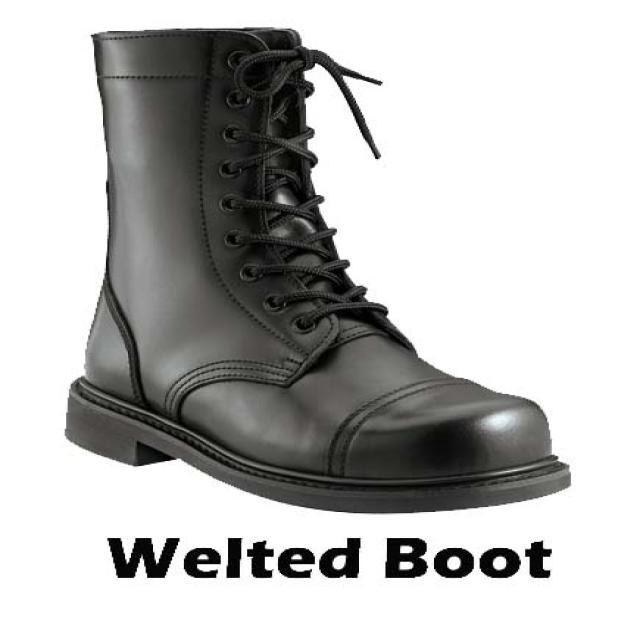boot: (34, 18, 591, 524)
